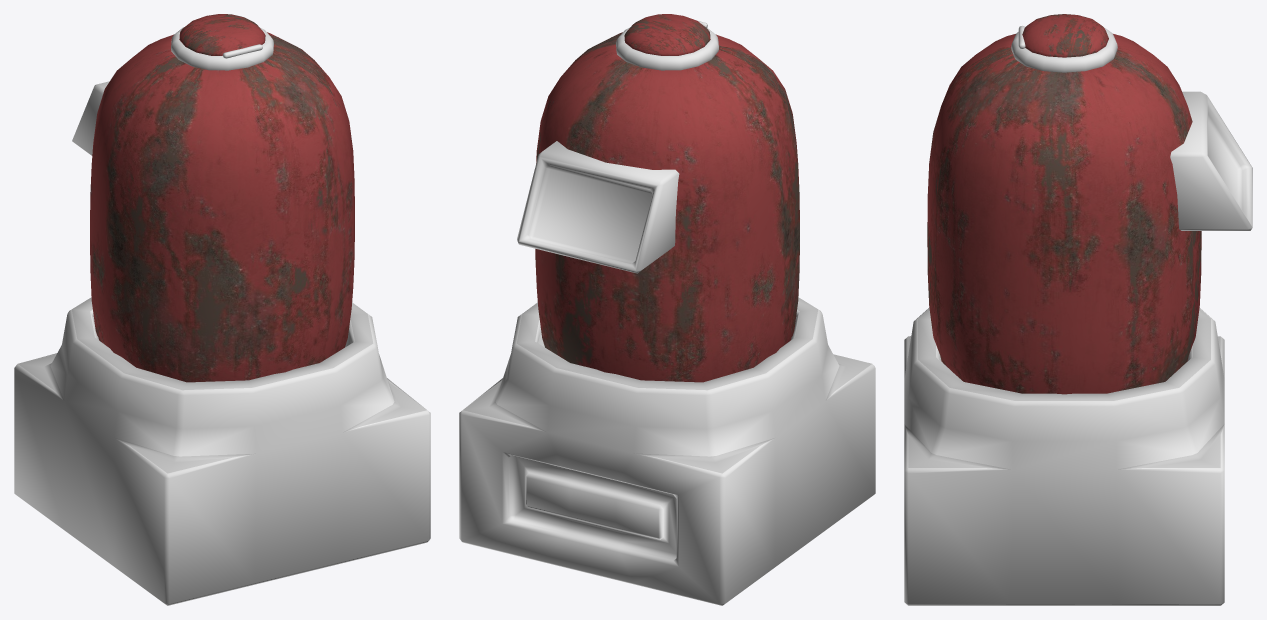
Rendered from FuelBarrel.fbx.
3 renders of one model, left to right at view 1: azimuth 30°, elevation 25°; view 2: azimuth 150°, elevation 25°; view 3: azimuth 270°, elevation 25°, orthographic. The views are drawn at different scales.
Parts seen in each view (by area): view 1: Barrel, BarrelLog; view 2: Barrel, BarrelLog; view 3: Barrel, BarrelLog.
Boxes of the visible parts, x1,y1,x2,y2 form: Barrel: (14,27,430,605); BarrelLog: (179,14,265,58); Barrel: (459,27,875,605); BarrelLog: (624,14,710,55); Barrel: (904,27,1252,605); BarrelLog: (1018,14,1108,57).
Bounding box in the file's own units: 0.7733 × 1.38 × 0.8408.
